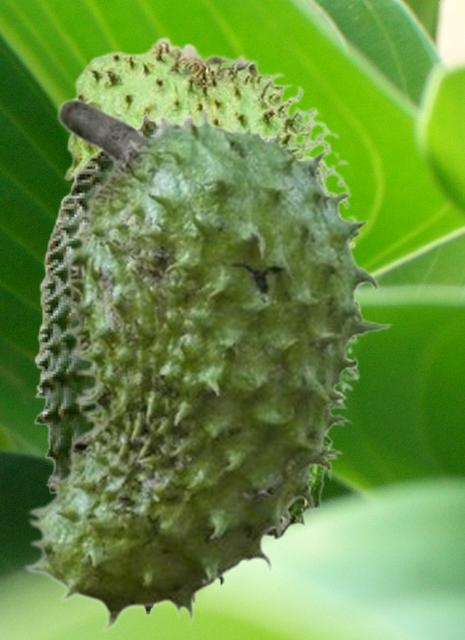guyabano: (22, 97, 392, 632), (56, 35, 363, 544), (33, 112, 328, 615)
